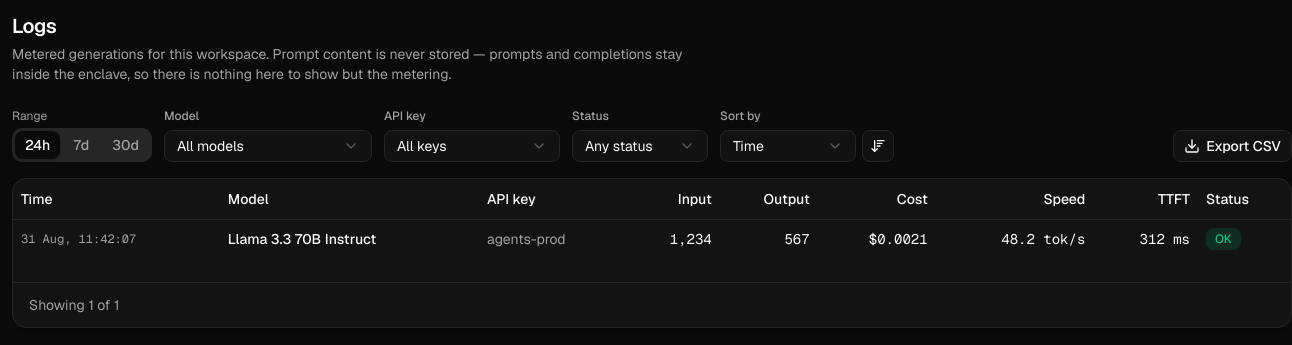
Test: LogsScreen › flips the sort direction without losing the sort field
expect the text "Llama 3.3 70B Instruct" is shown: met, box [220,219,479,258]
Click the button named "Sort descending". click: (878, 146)
box: [862,130,894,162]
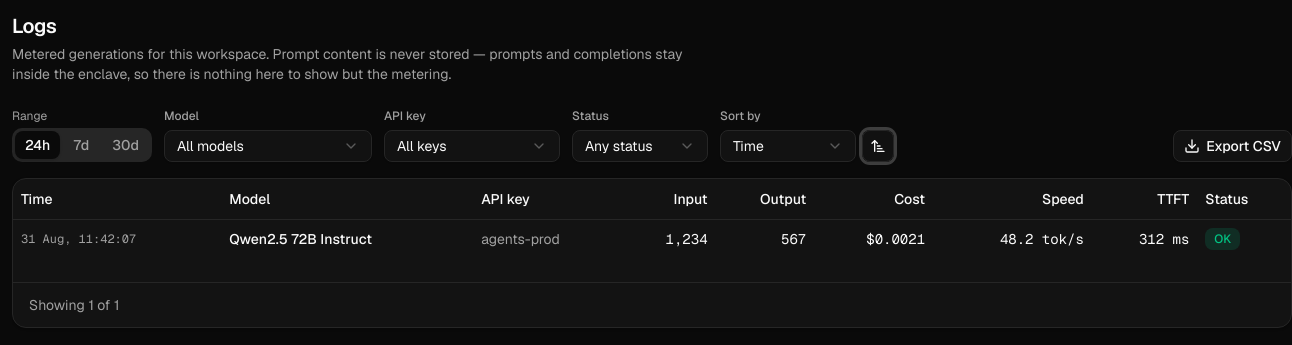
expect the text "Qwen2.5 72B Instruct" is shown: met, box [221,219,473,258]
